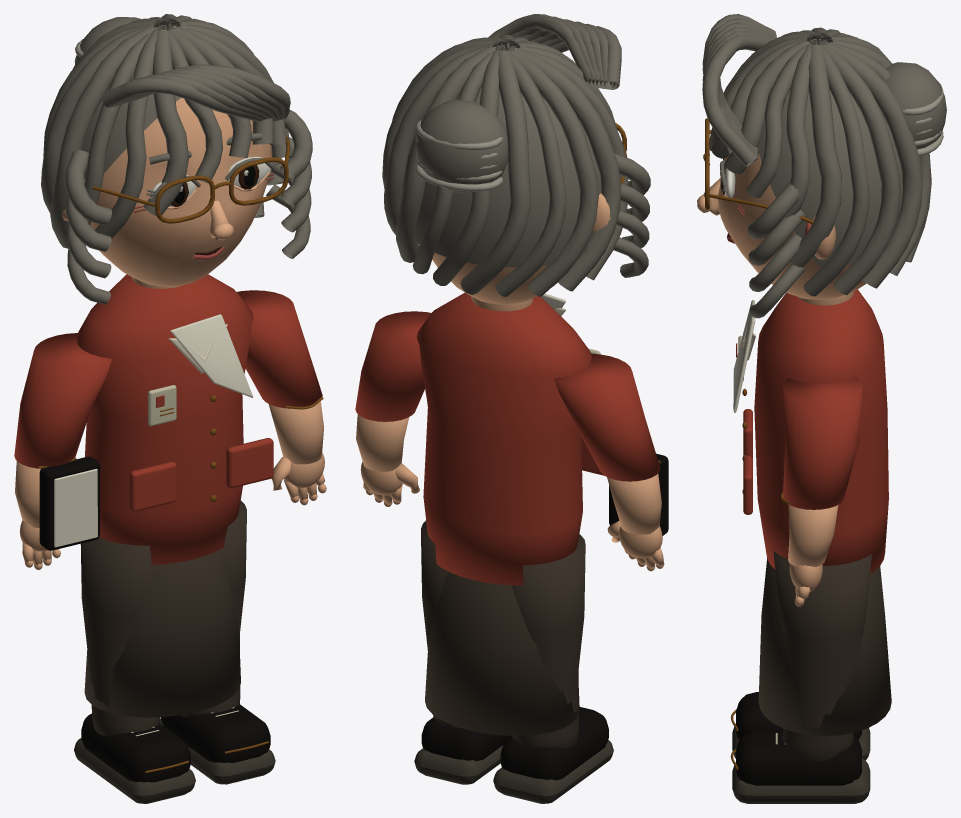
Rendered from receptionist-01.glb.
3 renders of one model, left to right at view 1: azimuth 30°, elevation 25°; view 2: azimuth 150°, elevation 25°; view 3: azimuth 270°, elevation 25°, orthographic.
Visible parts, largest first — view 1: Body, Head, ArmL, LegL, ArmR, LegR; view 2: Head, Body, LegL, ArmL, ArmR, LegR; view 3: Head, Body, LegR, ArmR, LegL.
Part boxes in pixels (x1,y1,x2,y2): Body: (38, 274, 323, 717); Head: (41, 14, 312, 304); ArmL: (14, 333, 111, 569); LegL: (74, 537, 195, 803); ArmR: (237, 290, 326, 505); LegR: (160, 500, 275, 784); Head: (382, 14, 650, 304); Body: (416, 292, 660, 735); LegL: (493, 534, 613, 803); ArmL: (554, 353, 668, 571); ArmR: (355, 311, 431, 506); LegR: (414, 521, 512, 784); Head: (697, 14, 946, 318); Body: (733, 289, 891, 736); LegR: (730, 551, 871, 803); ArmR: (783, 377, 862, 606); LegL: (730, 692, 870, 760).
Size of the model in its own units: 0.5725 by 1.33 by 0.4099.
